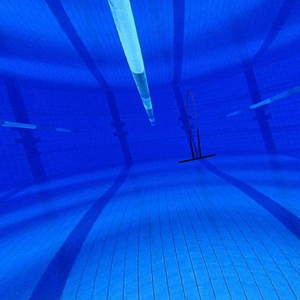circle: (177, 90, 217, 164)
